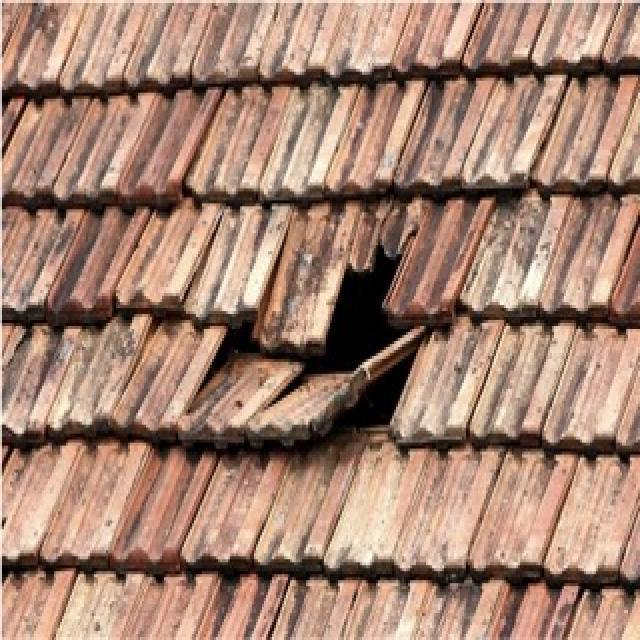trou: (182, 224, 445, 444)
